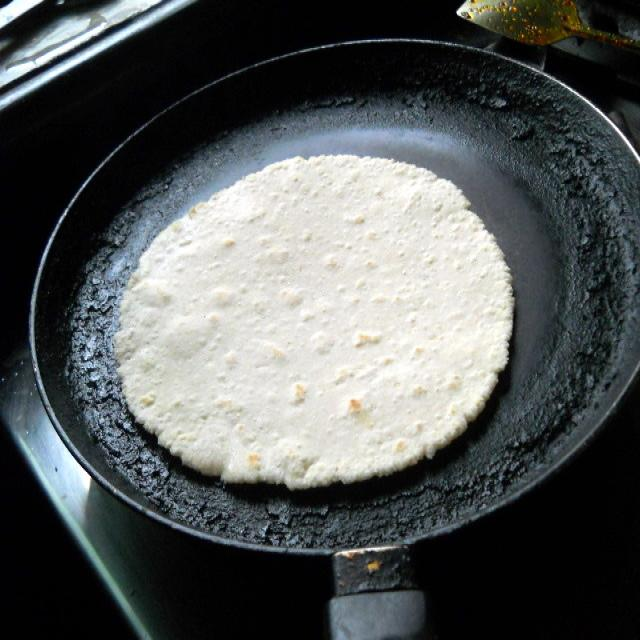RICE BHAKRI: (121, 156, 517, 486)
